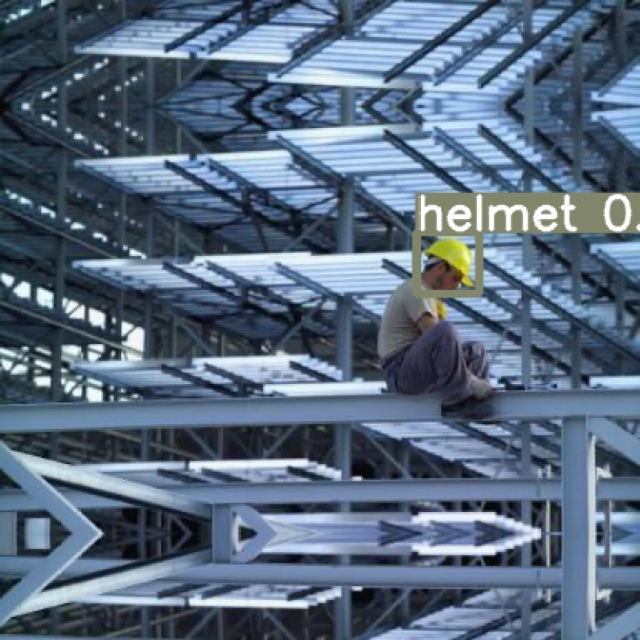Helmet: (422, 237, 475, 288)
